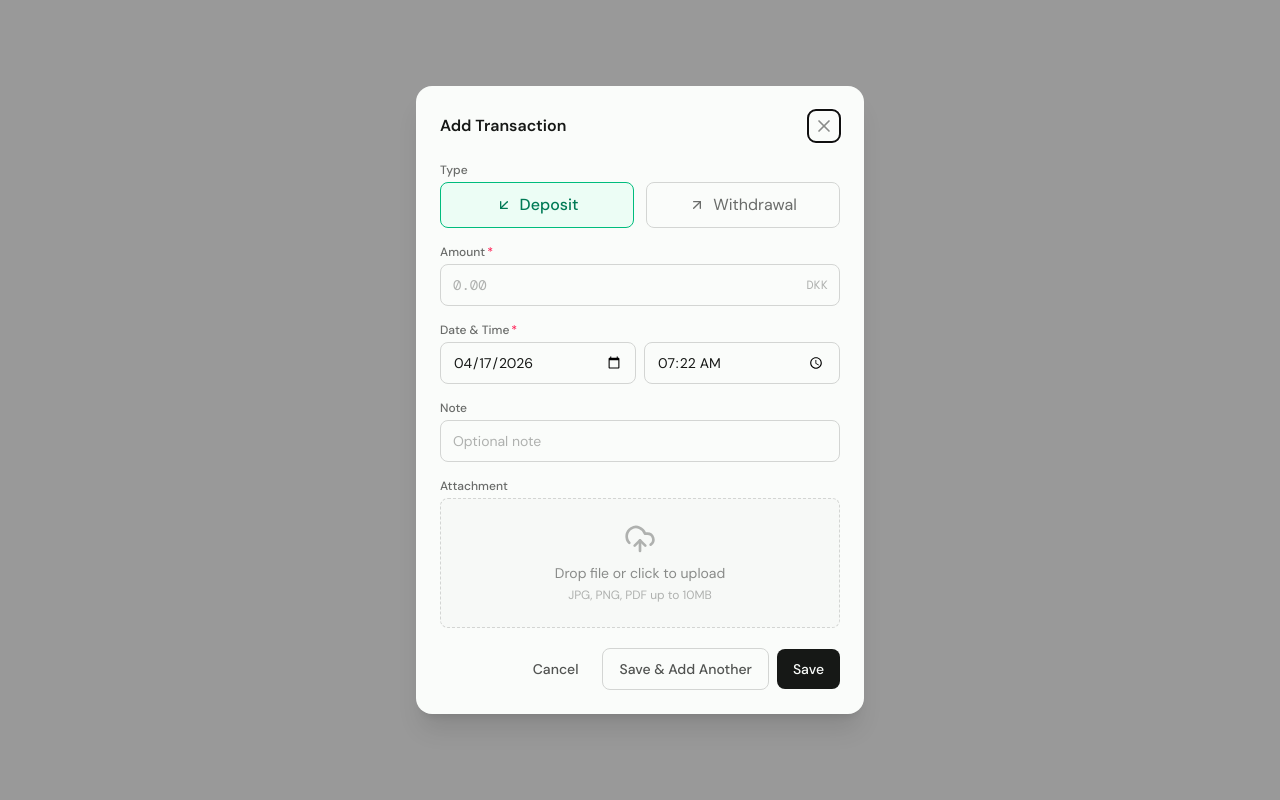
Test: TransactionDialog › Validation › shows error when amount is empty
Click the button "Save". click: {"x": 808, "y": 669}
box: [777,649,840,689]
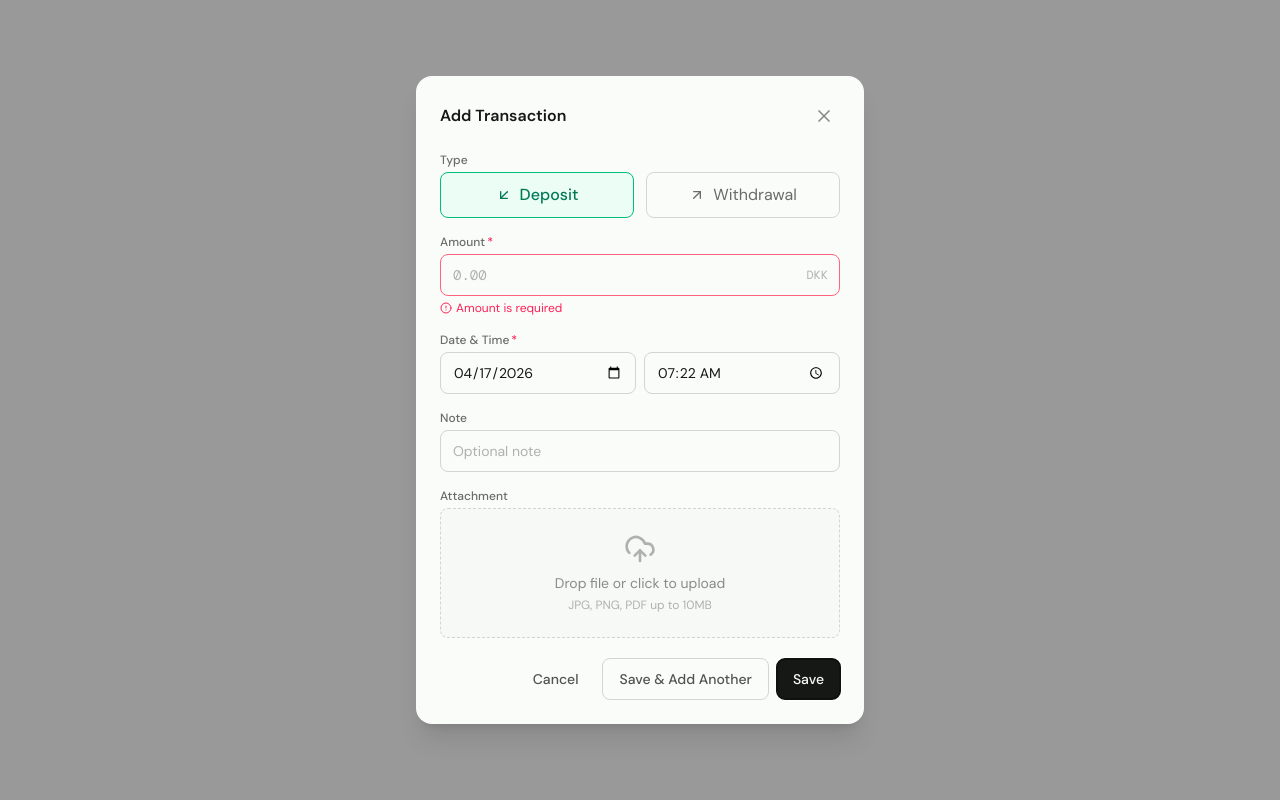
Result: the text "Amount is required" is shown at [440,300,562,316]
